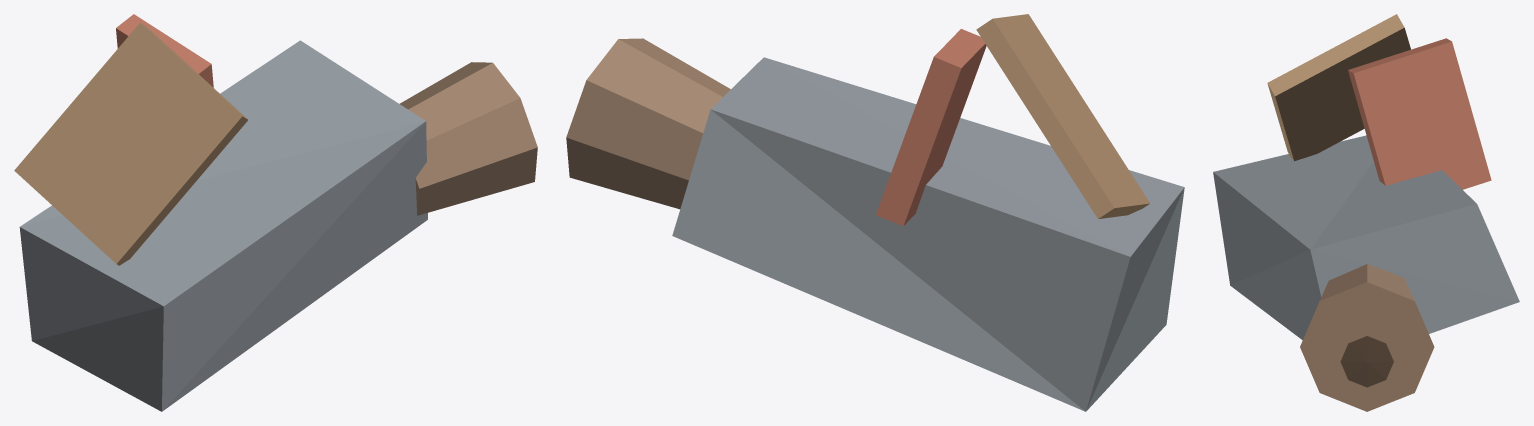
File: tarhut_destroco_1.glb
The picture shows the model from 3 angles, left to right: view 1: azimuth 30°, elevation 25°; view 2: azimuth 150°, elevation 25°; view 3: azimuth 270°, elevation 25°; orthographic projection. The views are drawn at different scales.
Visible parts, largest first — view 1: destroco; view 2: destroco; view 3: destroco.
Boxes of the visible parts, x1,y1,x2,y2 form: destroco: (14,14,537,411); destroco: (566,14,1184,411); destroco: (1213,14,1519,411).
Bounding box in the file's own units: 2.55 × 1.58 × 1.46.
